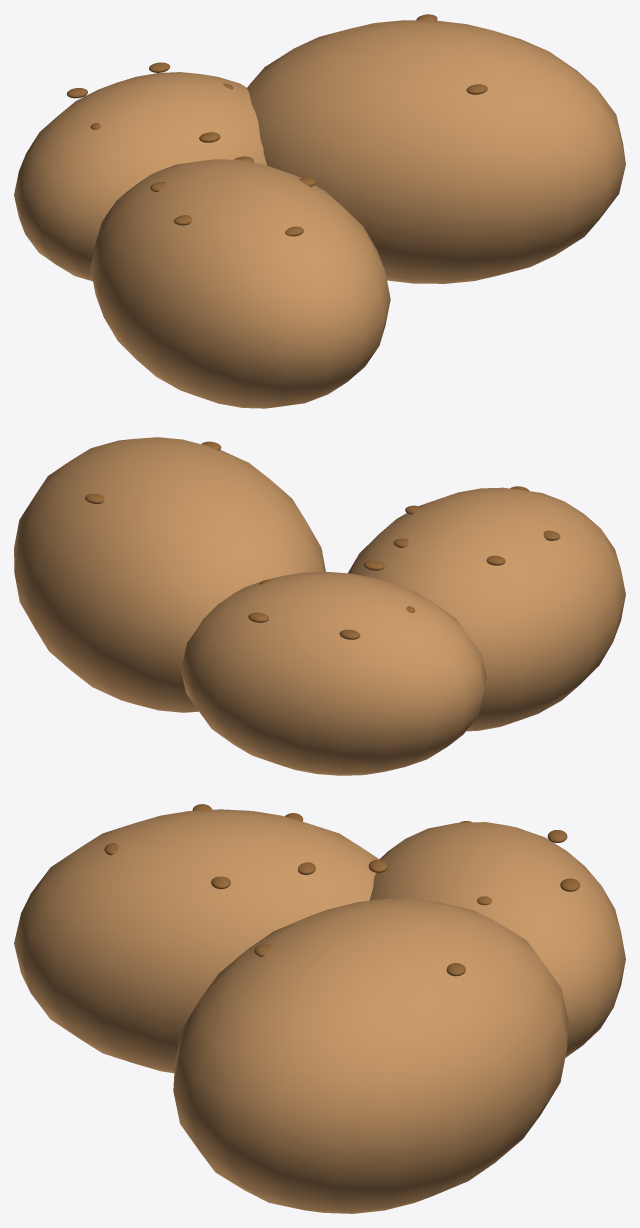
The model's file is potatoes.glb.
3 views of the same model, one above another, from view 1: azimuth 30°, elevation 25°; view 2: azimuth 150°, elevation 25°; view 3: azimuth 270°, elevation 25° (orthographic). The views are drawn at different scales.
Visible parts, largest first — view 1: potatoes_mesh; view 2: potatoes_mesh; view 3: potatoes_mesh.
Part boxes in pixels (x1,y1,x2,y2): potatoes_mesh: (14, 14, 625, 408); potatoes_mesh: (14, 437, 625, 775); potatoes_mesh: (14, 804, 625, 1213).
Size of the model in its own units: 0.244 by 0.1054 by 0.2143.
